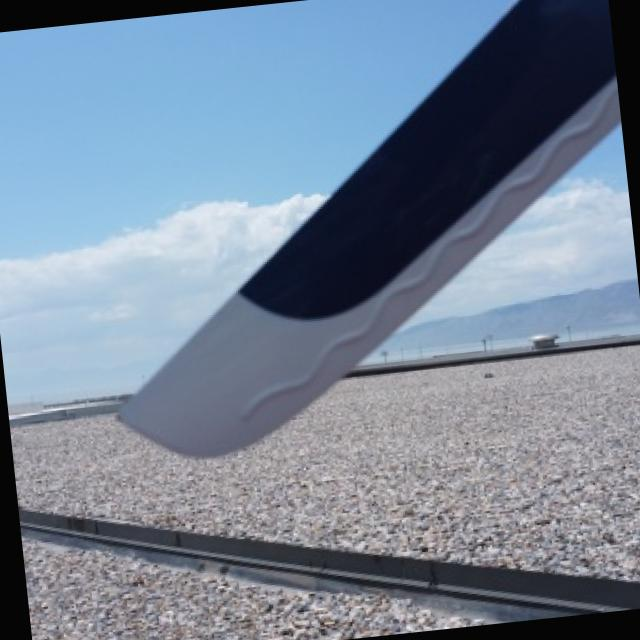healthy: (122, 0, 619, 454)
